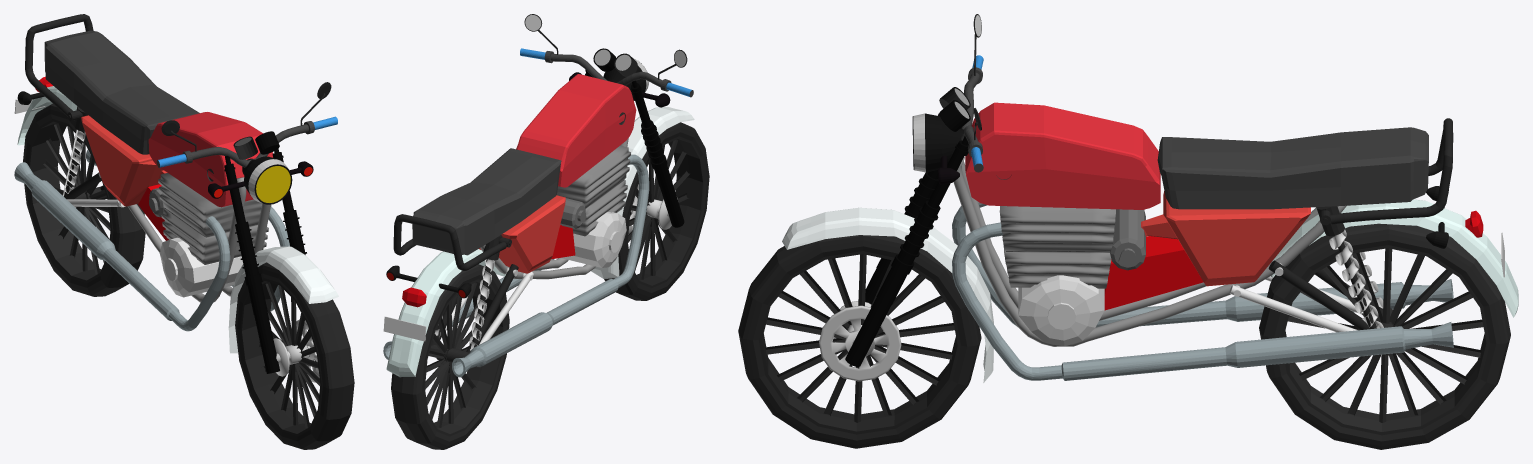
Rendered from Bike.gltf.
3 views of the same model, side by side, from view 1: azimuth 30°, elevation 25°; view 2: azimuth 150°, elevation 25°; view 3: azimuth 270°, elevation 25° (orthographic). The views are drawn at different scales.
Visible parts, largest first — view 1: Front_wheel, back_wheel, seat, exhaust, tank, engine_1, front_bumper, engine_2, Front_water, engine_4, Headlight, frame (+13 smaller); view 2: back_wheel, seat, Front_wheel, tank, exhaust, back_water, engine_1, engine_2, engine_4, front_bumper, Front_water, fender_back (+16 smaller); view 3: back_wheel, Front_wheel, seat, tank, exhaust, engine_2, engine_1, frame, Front_water, front_bumper, engine_4, back_water (+10 smaller).
Part boxes in pixels (x1,y1,x2,y2): Front_wheel: [235, 262, 354, 449]; back_wheel: [23, 103, 145, 296]; seat: [44, 30, 199, 154]; exhaust: [14, 149, 289, 331]; tank: [148, 112, 272, 207]; engine_1: [158, 173, 271, 264]; front_bumper: [224, 148, 316, 373]; engine_2: [81, 115, 167, 206]; Front_water: [228, 246, 338, 353]; engine_4: [159, 237, 265, 297]; Headlight: [242, 156, 292, 204]; frame: [127, 177, 270, 302]; back_wheel: [391, 264, 509, 449]; seat: [412, 148, 561, 255]; Front_wheel: [604, 122, 709, 300]; tank: [516, 74, 636, 187]; exhaust: [383, 154, 649, 377]; back_water: [386, 249, 505, 377]; engine_1: [556, 145, 630, 236]; engine_2: [479, 195, 565, 273]; engine_4: [561, 212, 626, 267]; front_bumper: [585, 69, 684, 227]; Front_water: [591, 107, 694, 278]; fender_back: [393, 214, 506, 270]; back_wheel: [1259, 223, 1510, 449]; Front_wheel: [738, 235, 981, 448]; seat: [1157, 127, 1428, 209]; tank: [965, 102, 1160, 209]; exhaust: [952, 202, 1453, 380]; engine_2: [1141, 191, 1310, 286]; engine_1: [999, 206, 1115, 288]; frame: [953, 156, 1346, 346]; Front_water: [782, 207, 993, 382]; front_bumper: [845, 127, 968, 366]; engine_4: [1018, 275, 1104, 346]; back_water: [1271, 199, 1518, 317].
Bounding box in the file's own units: 1.36 × 2.24 × 4.13.
